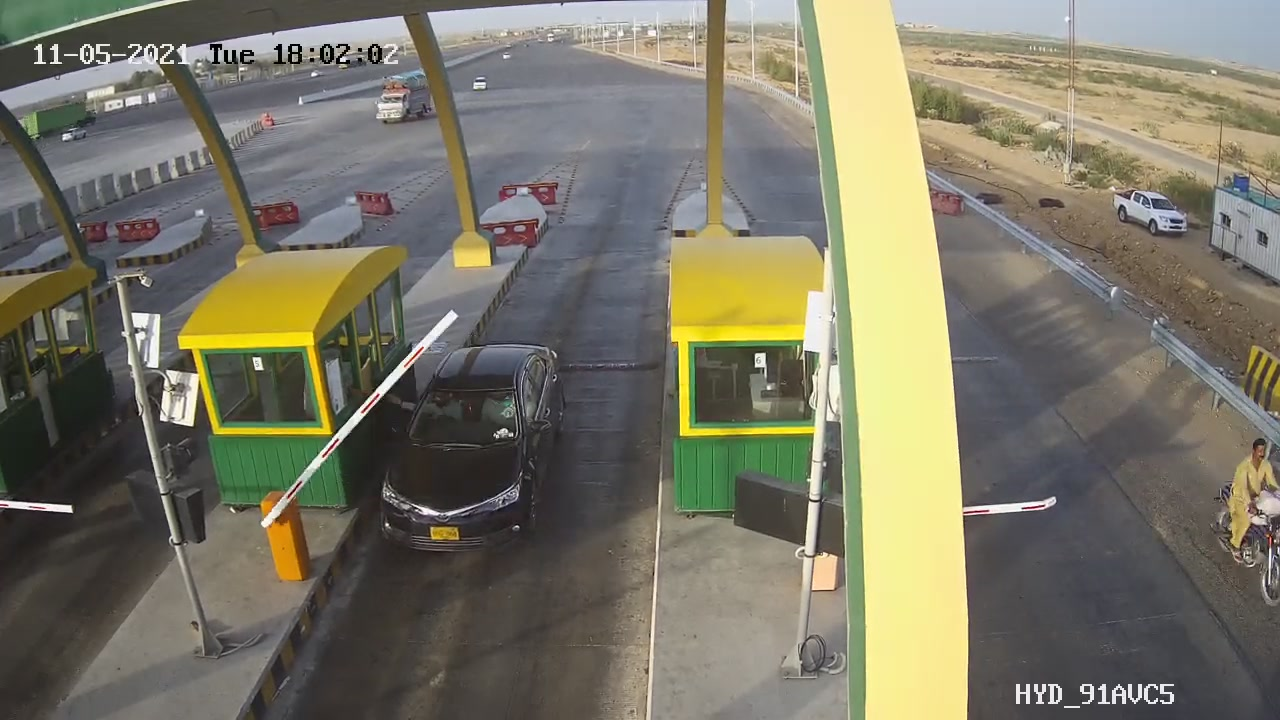F1: (365, 327, 583, 569)
